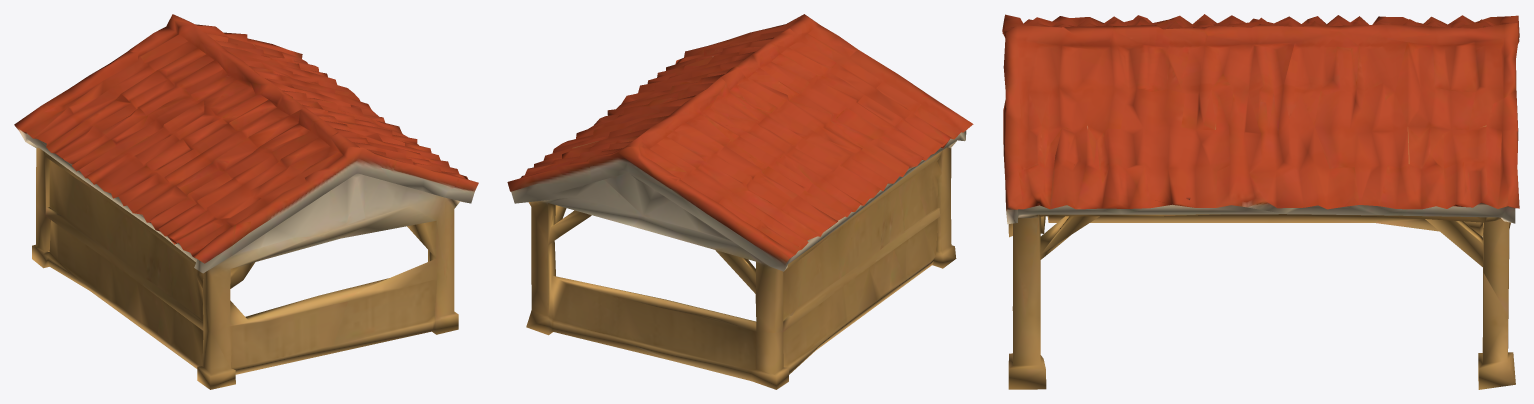
Rendered from tractor-shed.glb.
The picture shows the model from 3 angles, left to right: view 1: azimuth 30°, elevation 25°; view 2: azimuth 150°, elevation 25°; view 3: azimuth 270°, elevation 25°; orthographic projection. The views are drawn at different scales.
Visible parts, largest first — view 1: tripo_node_fa584df2-8ab0-45d0-bcfa-33ddea201797; view 2: tripo_node_fa584df2-8ab0-45d0-bcfa-33ddea201797; view 3: tripo_node_fa584df2-8ab0-45d0-bcfa-33ddea201797.
Part boxes in pixels (bbox=[...]): tripo_node_fa584df2-8ab0-45d0-bcfa-33ddea201797: bbox=[14, 14, 478, 389]; tripo_node_fa584df2-8ab0-45d0-bcfa-33ddea201797: bbox=[507, 14, 973, 389]; tripo_node_fa584df2-8ab0-45d0-bcfa-33ddea201797: bbox=[1002, 14, 1519, 389].
Bounding box in the file's own units: 0.8978 × 0.6296 × 1.
1 material, 1 textured.
